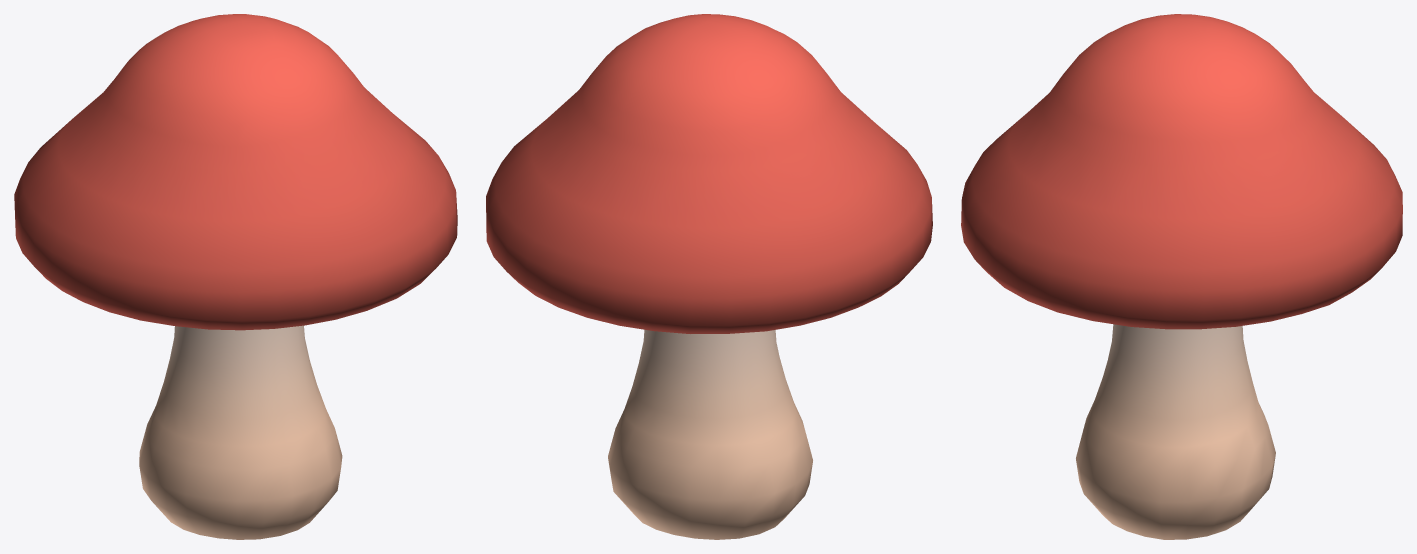
The model's file is Mushroom_0001_0023.fbx.
3 views of the same model, side by side, from view 1: azimuth 30°, elevation 25°; view 2: azimuth 150°, elevation 25°; view 3: azimuth 270°, elevation 25° (orthographic).
Parts seen in each view (by area): view 1: Mushroom_0001_0023; view 2: Mushroom_0001_0023; view 3: Mushroom_0001_0023.
Boxes of the visible parts, x1,y1,x2,y2 form: Mushroom_0001_0023: (14,14,457,539); Mushroom_0001_0023: (486,14,932,539); Mushroom_0001_0023: (961,14,1402,539).
Bounding box in the file's own units: 0.2412 × 0.2927 × 0.2415.
Materials: 1 (1 with a texture image).
